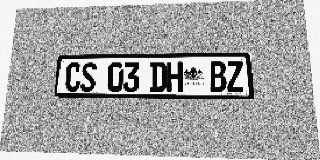0: (107, 62, 124, 92)
3: (123, 62, 139, 92)
B: (209, 61, 227, 92)
C: (65, 63, 81, 92)
D: (150, 62, 166, 92)
H: (167, 62, 183, 92)
S: (80, 63, 97, 92)
Z: (226, 61, 244, 92)
